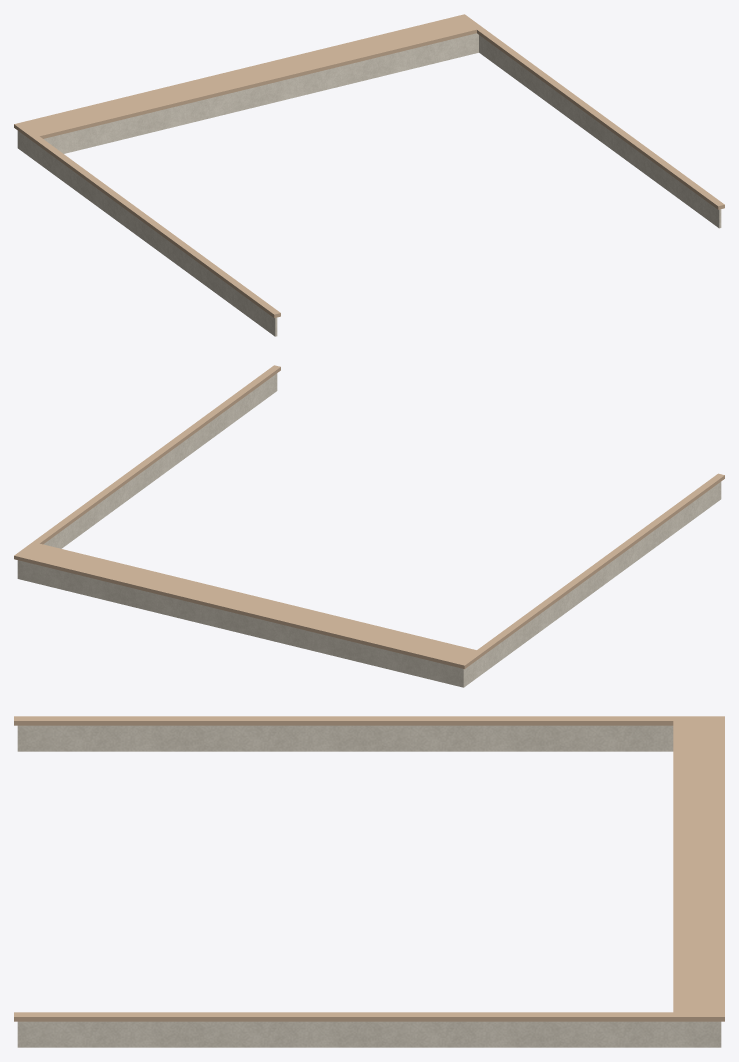
File: stair_core_slab_roof_192_192_29.glb
3 renders of one model, top to bottom at view 1: azimuth 30°, elevation 25°; view 2: azimuth 150°, elevation 25°; view 3: azimuth 270°, elevation 25°, orthographic. The views are drawn at different scales.
Visible parts, largest first — view 1: stair_core_slab_roof_192_192_29_plaster, stair_core_slab_roof_192_192_29_deck; view 2: stair_core_slab_roof_192_192_29_plaster, stair_core_slab_roof_192_192_29_deck; view 3: stair_core_slab_roof_192_192_29_plaster, stair_core_slab_roof_192_192_29_deck.
Boxes of the visible parts, x1,y1,x2,y2 form: stair_core_slab_roof_192_192_29_plaster: (17, 33, 721, 336); stair_core_slab_roof_192_192_29_deck: (14, 14, 724, 318); stair_core_slab_roof_192_192_29_plaster: (17, 373, 721, 687); stair_core_slab_roof_192_192_29_deck: (14, 365, 724, 669); stair_core_slab_roof_192_192_29_plaster: (17, 725, 721, 1047); stair_core_slab_roof_192_192_29_deck: (14, 716, 724, 1021).
Bounding box in the file's own units: 4 × 0.2 × 4.
2 materials, 1 textured.
